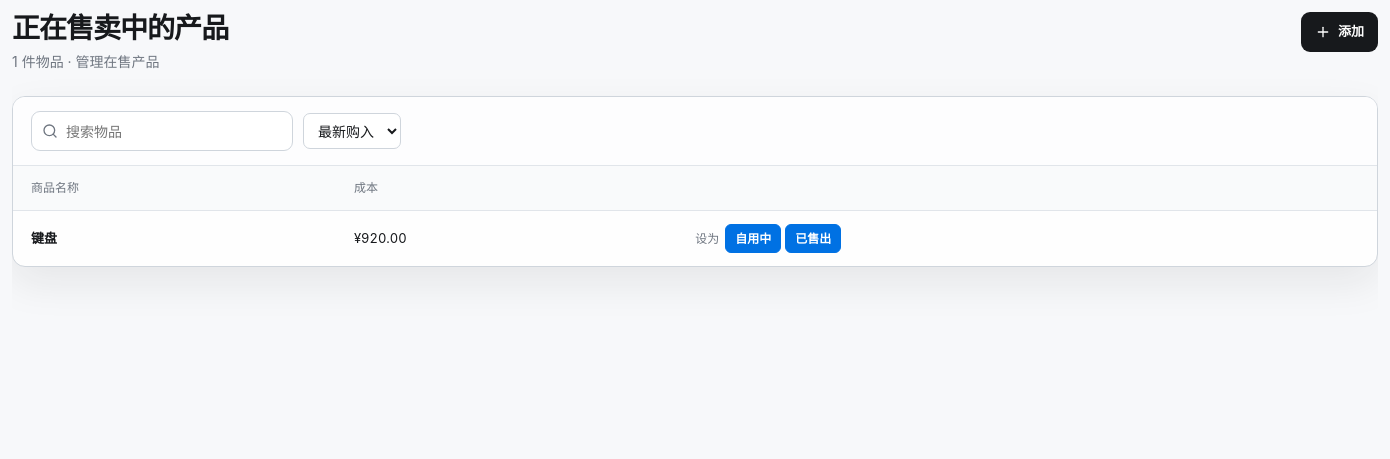
Scenario: SelfUsePage › removes a listed item after changing it to self-use
Click the button with aria-label "设置 键盘 为自用中" at (753, 238), box [725, 224, 781, 253]
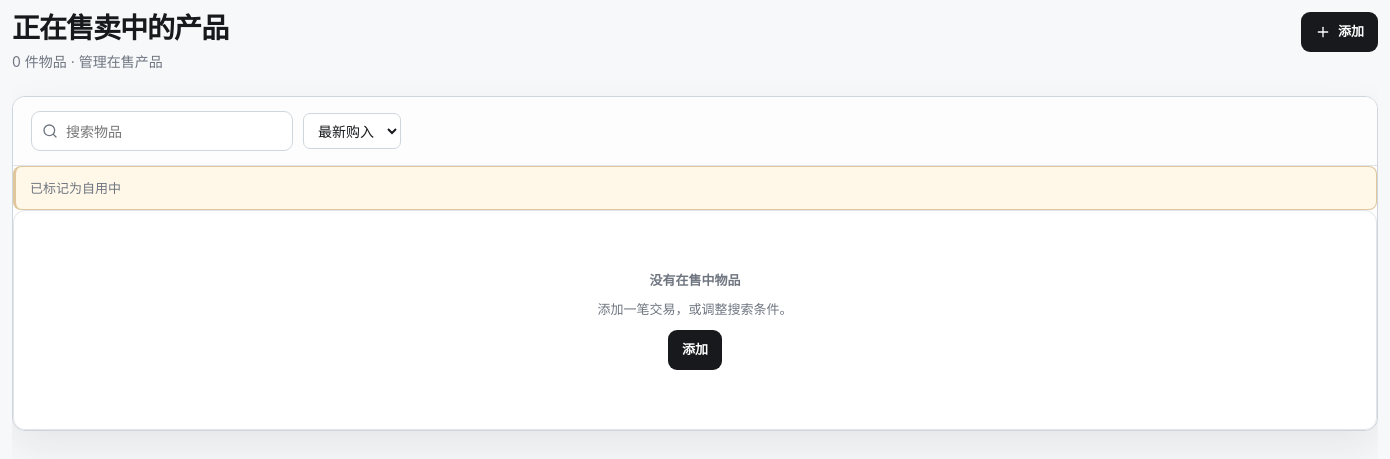
Expected: the button "键盘" is gone
